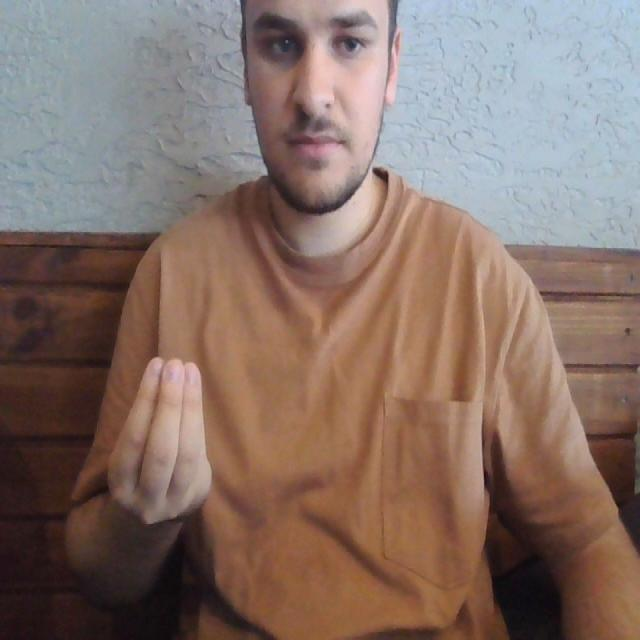iyi: (105, 353, 218, 529)
